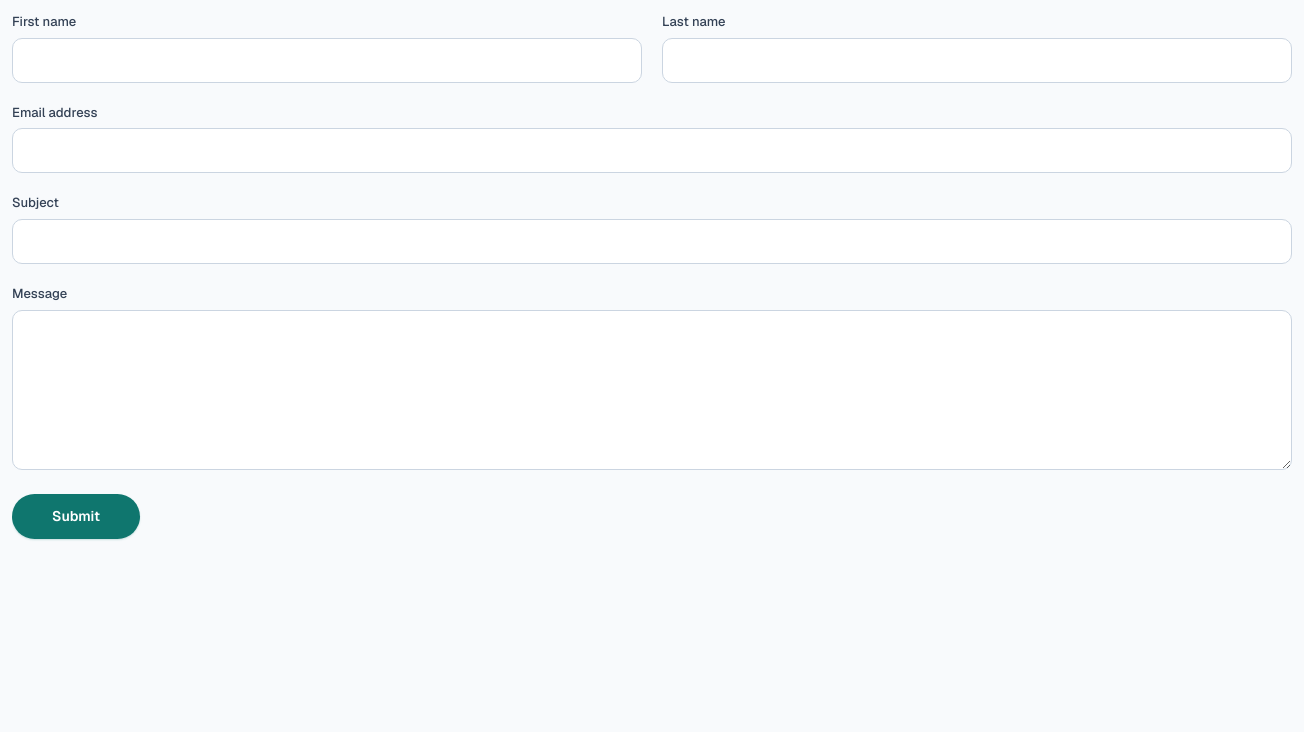
Test: ContactForm › shows an error when subject or message is missing
Type "Ada" into the field labelled "First name". click: (327, 60)
box: [12, 38, 642, 83]
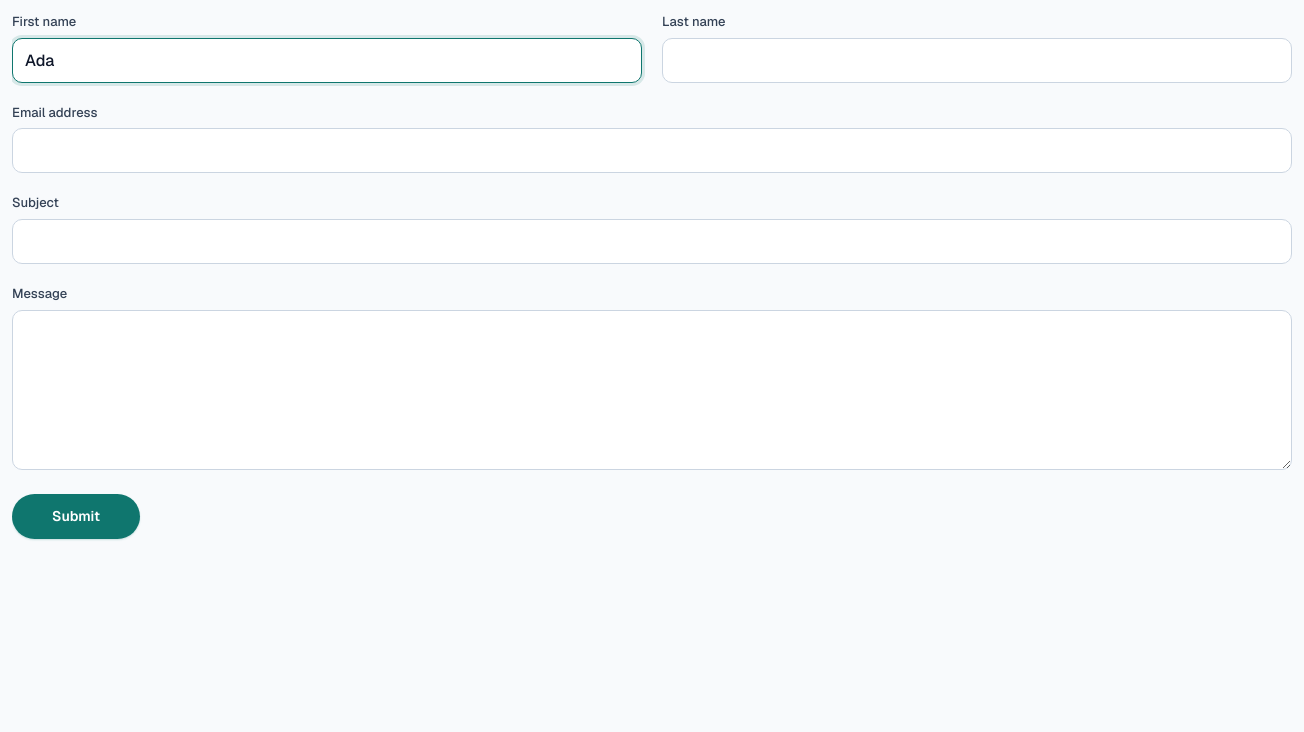
Type "Lovelace" into the field labelled "Last name". click: (977, 60)
box: [662, 38, 1292, 83]
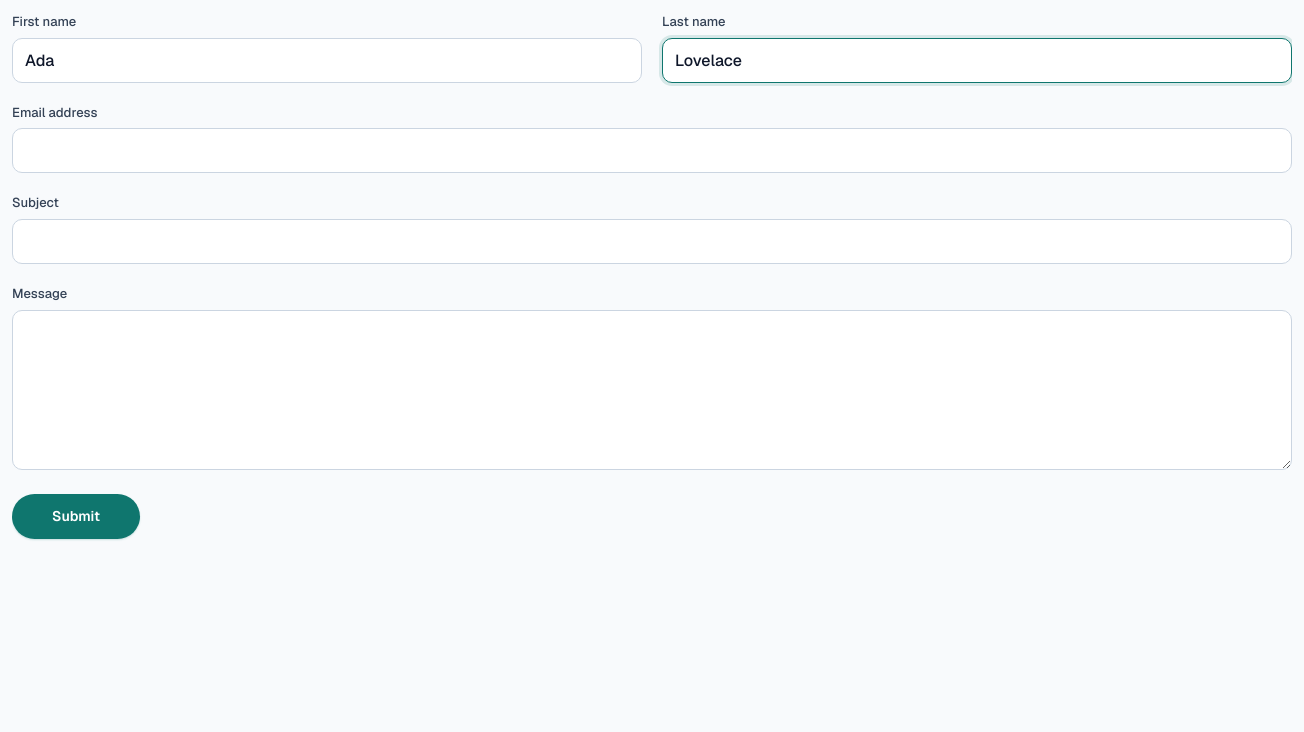
Type "ada@test.dev" into the field labelled "Email address". click: (652, 151)
box: [12, 128, 1292, 173]
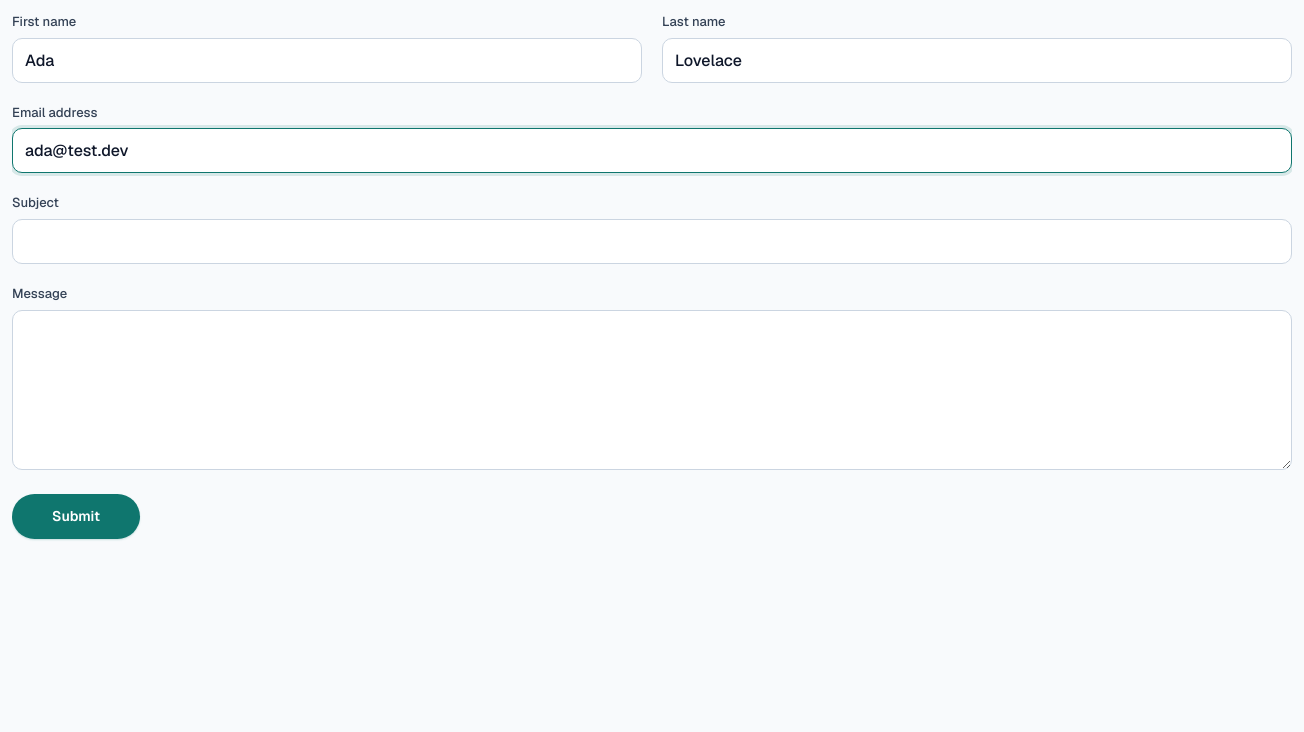
Click the button "Submit". click: (76, 516)
box: [12, 494, 140, 539]
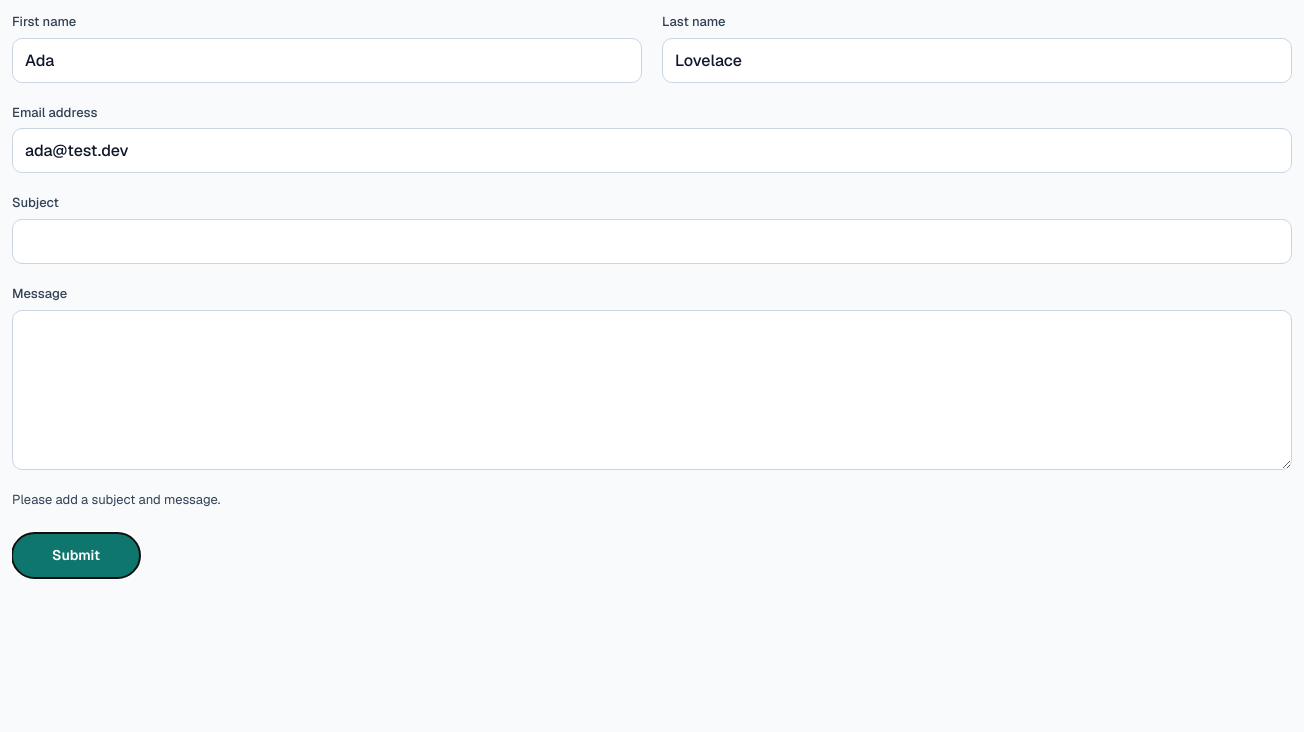
Expected: the text "Please add a subject and message." is shown, [12, 491, 220, 508]
